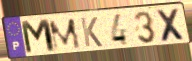3: (132, 10, 158, 46)
4: (108, 13, 131, 47)
K: (79, 16, 104, 48)
M: (19, 18, 58, 56), (47, 17, 83, 53)
X: (154, 7, 188, 43)
